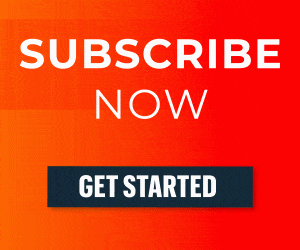fake_button: (42, 163, 260, 217)
